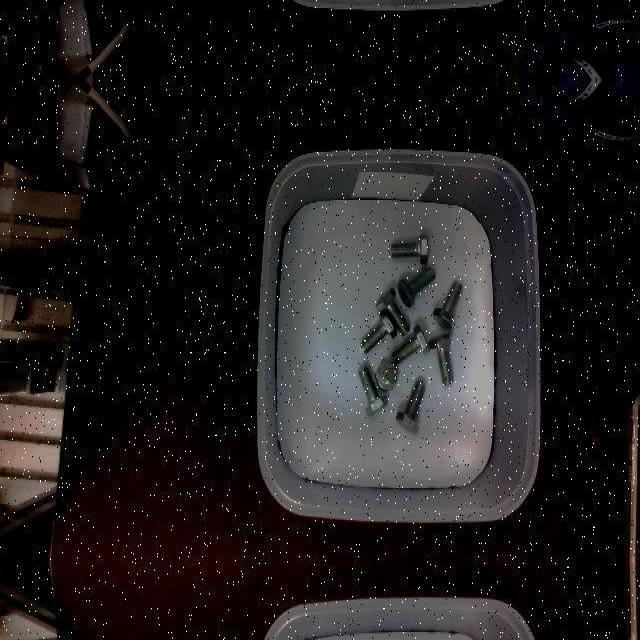screw: (375, 286, 410, 336), (397, 266, 436, 308), (391, 323, 430, 365), (360, 309, 397, 353), (395, 381, 425, 433), (433, 281, 464, 331), (358, 365, 388, 415), (428, 333, 452, 385), (390, 233, 428, 263), (375, 361, 399, 391)
